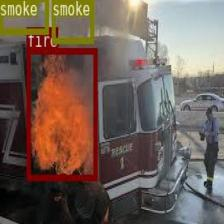fire: (26, 47, 96, 179)
smoke: (51, 0, 93, 43), (0, 0, 47, 33)
